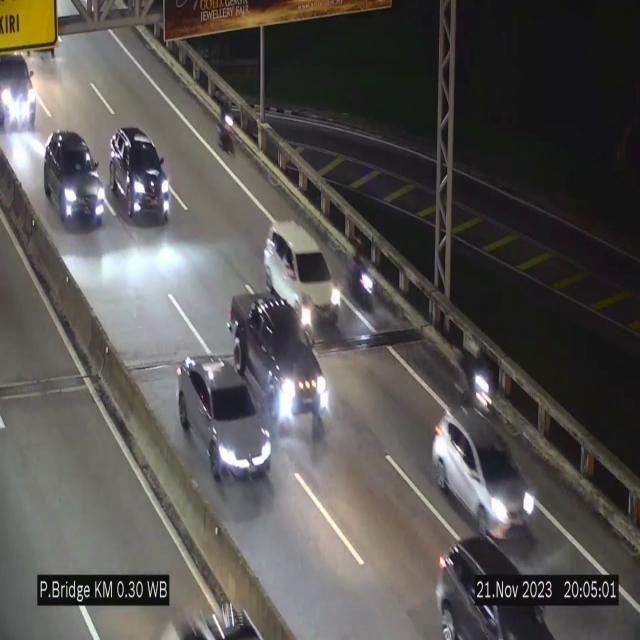Car: (422, 522, 566, 640), (229, 289, 329, 442), (430, 405, 532, 538), (178, 355, 274, 480), (264, 221, 340, 339), (43, 131, 105, 224), (110, 127, 170, 221), (0, 51, 40, 132)
Motorcycle: (454, 320, 496, 420), (348, 230, 374, 312), (216, 90, 236, 157)
